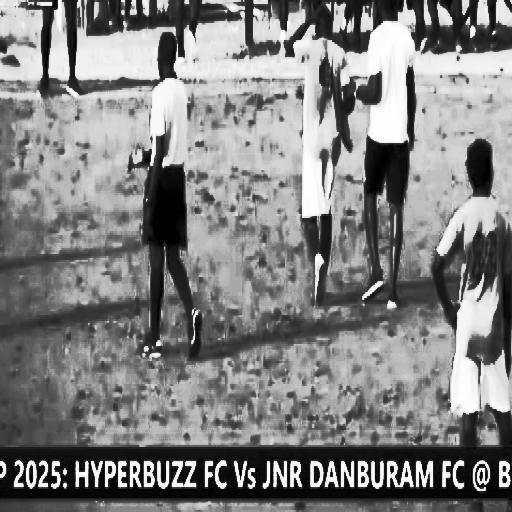distract: (357, 0, 421, 317)
referee: (134, 24, 210, 370), (40, 0, 86, 105)
team1: (439, 126, 512, 452), (278, 0, 352, 290)
